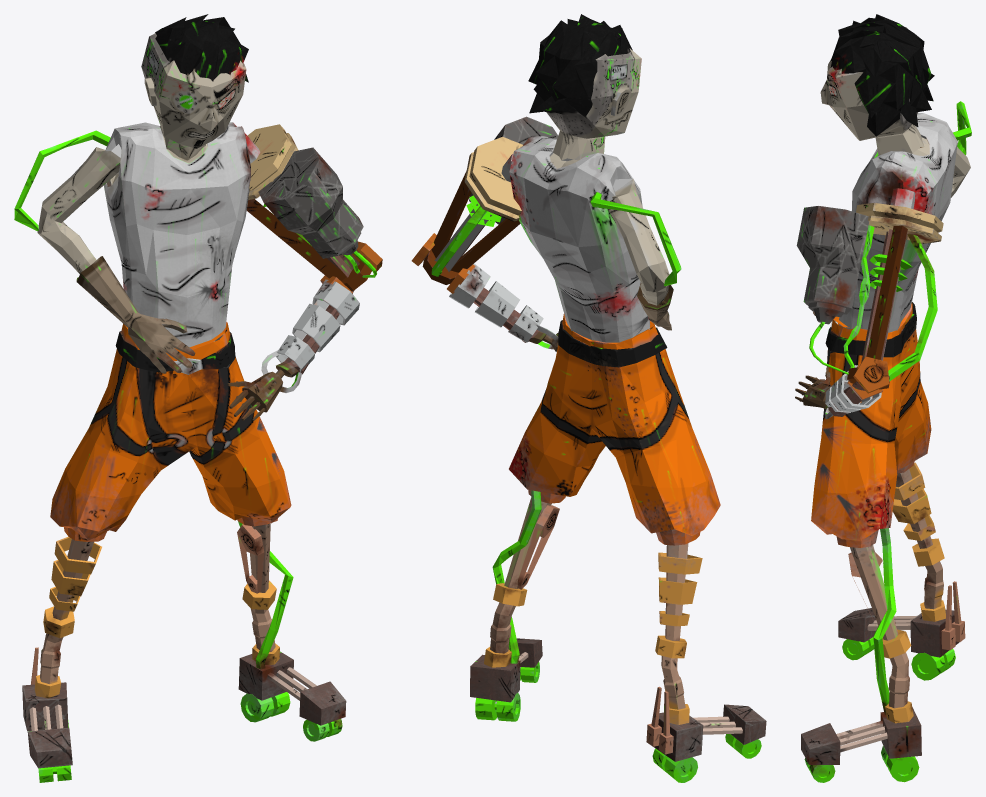
Rendered from CyborgFINALAnimation_000036.obj.
3 views of the same model, side by side, from view 1: azimuth 30°, elevation 25°; view 2: azimuth 150°, elevation 25°; view 3: azimuth 270°, elevation 25° (orthographic). The views are drawn at different scales.
Visible parts, largest first — view 1: CyborgMesh_Cube.002; view 2: CyborgMesh_Cube.002; view 3: CyborgMesh_Cube.002.
Boxes of the visible parts, bbox=[...] form: CyborgMesh_Cube.002: bbox=[14, 14, 382, 782]; CyborgMesh_Cube.002: bbox=[411, 14, 766, 782]; CyborgMesh_Cube.002: bbox=[795, 14, 971, 782].
Size of the model in its own units: 4.87 by 9.61 by 2.16.
